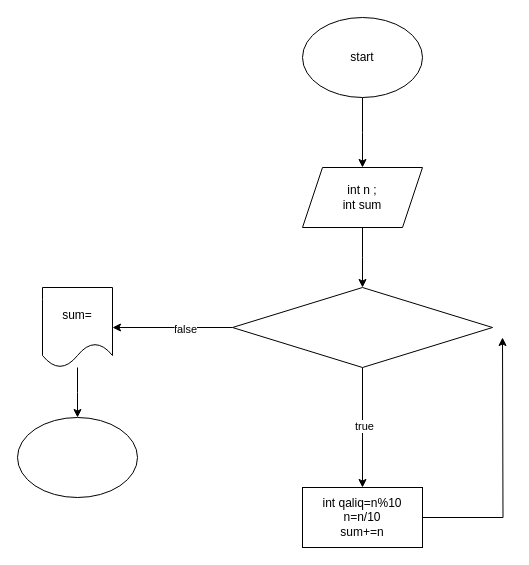
This 529x565 diagram has some shape labels left out. Each missing label, with the centre of its shape:
end: the point at 77,457
n!=0: the point at 362,327
